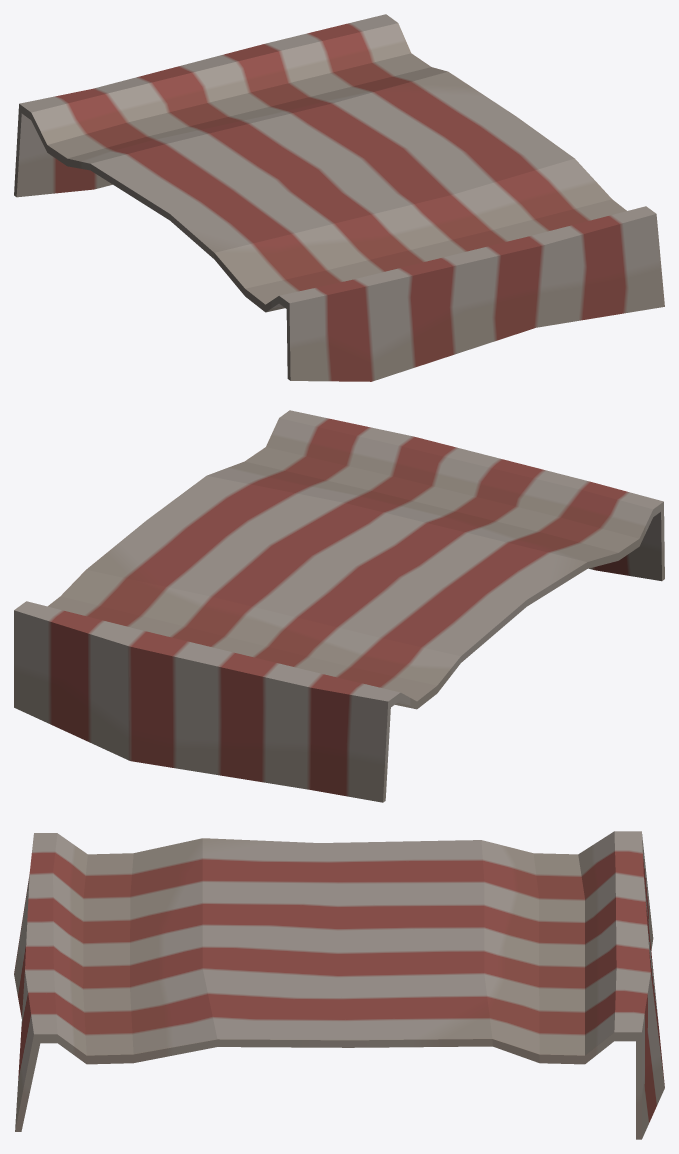
File: SM_Bld_Village_ClothCover_Large_Cloth_02.glb
The picture shows the model from 3 angles, top to bottom: view 1: azimuth 30°, elevation 25°; view 2: azimuth 150°, elevation 25°; view 3: azimuth 270°, elevation 25°; orthographic projection. The views are drawn at different scales.
Parts seen in each view (by area): view 1: SM_Bld_Village_ClothCover_Large_Cloth_02; view 2: SM_Bld_Village_ClothCover_Large_Cloth_02; view 3: SM_Bld_Village_ClothCover_Large_Cloth_02.
Part boxes in pixels (x1,y1,x2,y2): SM_Bld_Village_ClothCover_Large_Cloth_02: (14, 14, 664, 381); SM_Bld_Village_ClothCover_Large_Cloth_02: (14, 410, 664, 802); SM_Bld_Village_ClothCover_Large_Cloth_02: (14, 831, 664, 1139).
Size of the model in its own units: 3.57 by 1.02 by 4.88.
Materials: 1 (1 with a texture image).
